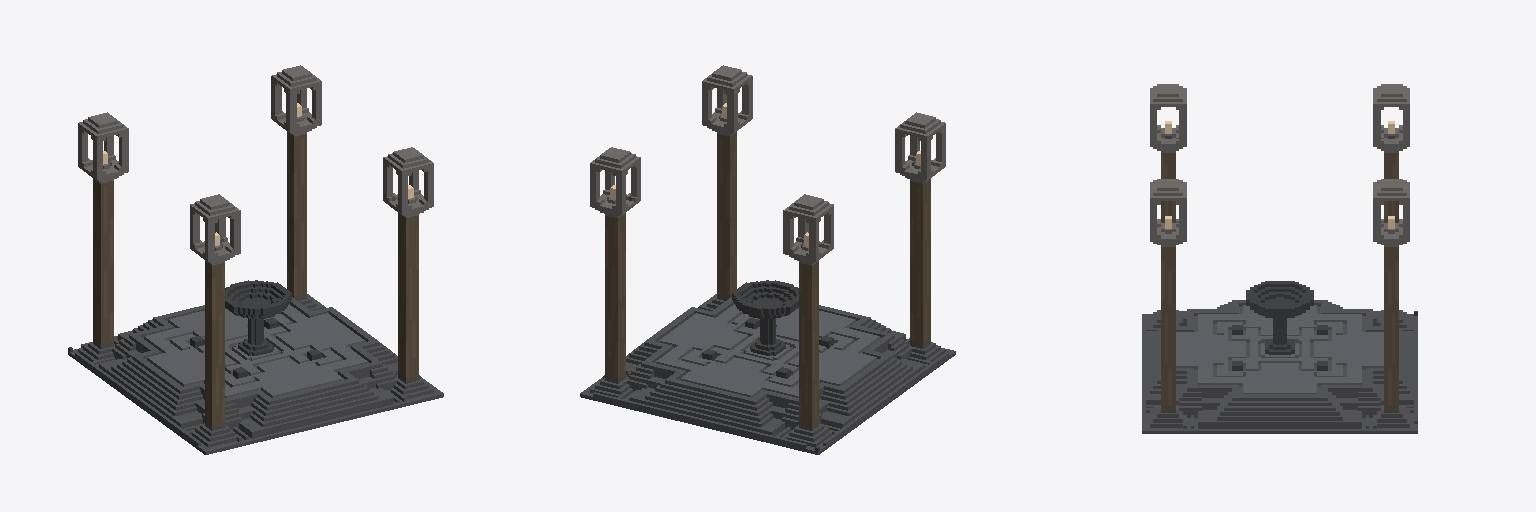
The picture shows the model from 3 angles: view 1: azimuth 30°, elevation 25°; view 2: azimuth 150°, elevation 25°; view 3: azimuth 270°, elevation 25°; orthographic projection.
Parts seen in each view (by area): view 1: object 1; view 2: object 1; view 3: object 1.
Boxes of the visible parts, x1,y1,x2,y2 form: object 1: [68, 65, 443, 454]; object 1: [580, 65, 955, 454]; object 1: [1142, 84, 1417, 433].
Bounding box in the file's own units: 7.4 × 7.1 × 7.4.
Materials: 1 (1 with a texture image).